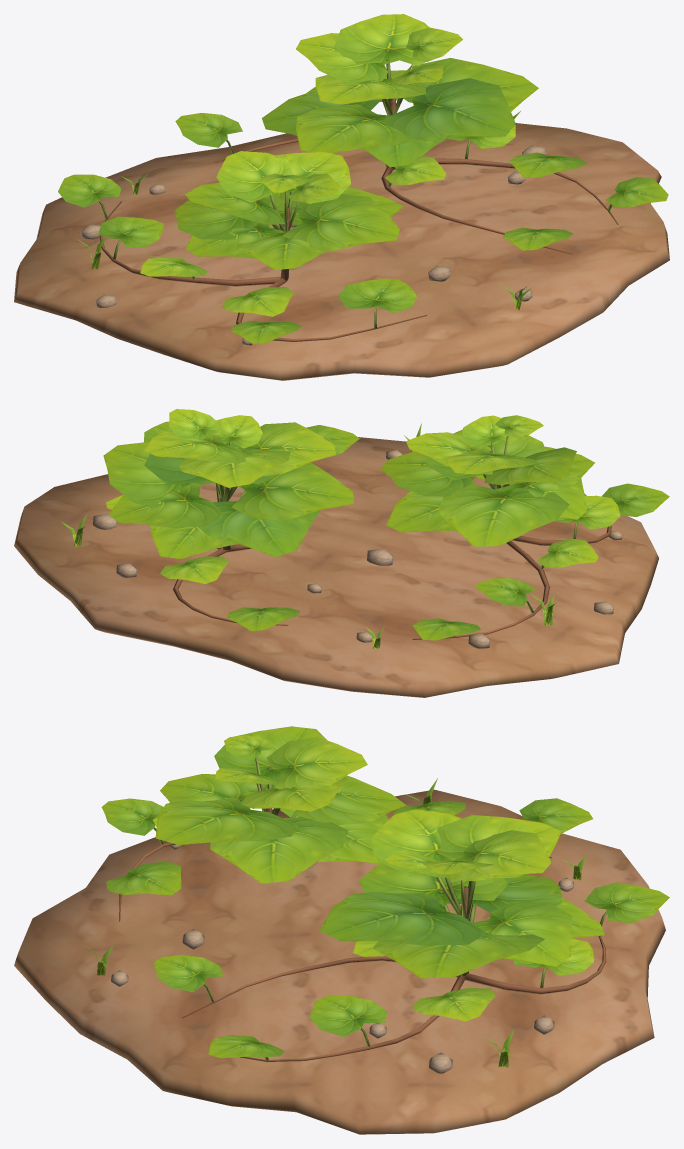
Rendered from wild_sweet_potato_LOD1.glb.
The picture shows the model from 3 angles, top to bottom: view 1: azimuth 30°, elevation 25°; view 2: azimuth 150°, elevation 25°; view 3: azimuth 270°, elevation 25°; orthographic projection. The views are drawn at different scales.
Parts seen in each view (by area): view 1: soil, foliage, stems, stone; view 2: soil, foliage, stems, stone; view 3: soil, foliage, stems, stone.
Part boxes in pixels (left/top/right/bottom): soil: left=14, top=123, right=669, bottom=380; foliage: left=58, top=14, right=668, bottom=343; stems: left=98, top=59, right=618, bottom=341; stone: left=82, top=145, right=546, bottom=345; soil: left=14, top=437, right=658, bottom=697; foliage: left=61, top=409, right=669, bottom=648; stems: left=173, top=436, right=611, bottom=639; stone: left=93, top=450, right=622, bottom=648; soil: left=14, top=789, right=665, bottom=1134; foliage: left=86, top=726, right=669, bottom=1067; stems: left=119, top=756, right=607, bottom=1061; stone: left=111, top=844, right=573, bottom=1073.
Bounding box in the file's own units: 2.16 × 0.532 × 1.78.
4 materials, 4 textured.
